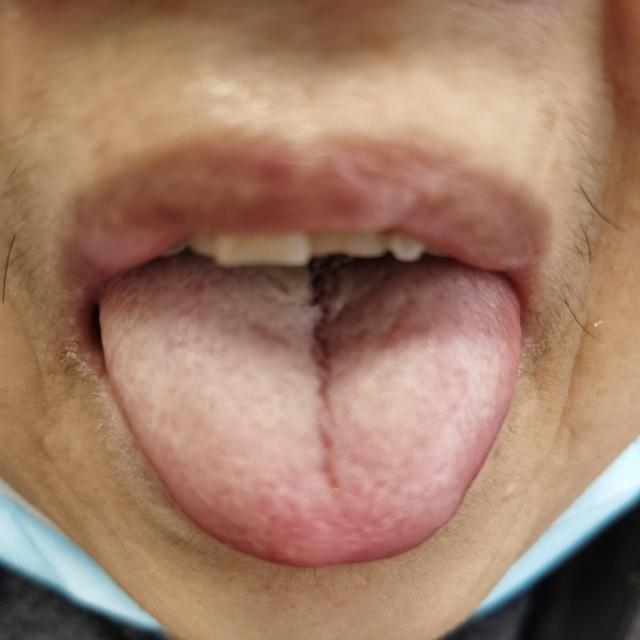baitaishe: (97, 268, 520, 569)
liewenshe: (304, 272, 346, 498)
piweiao: (253, 269, 415, 370)
